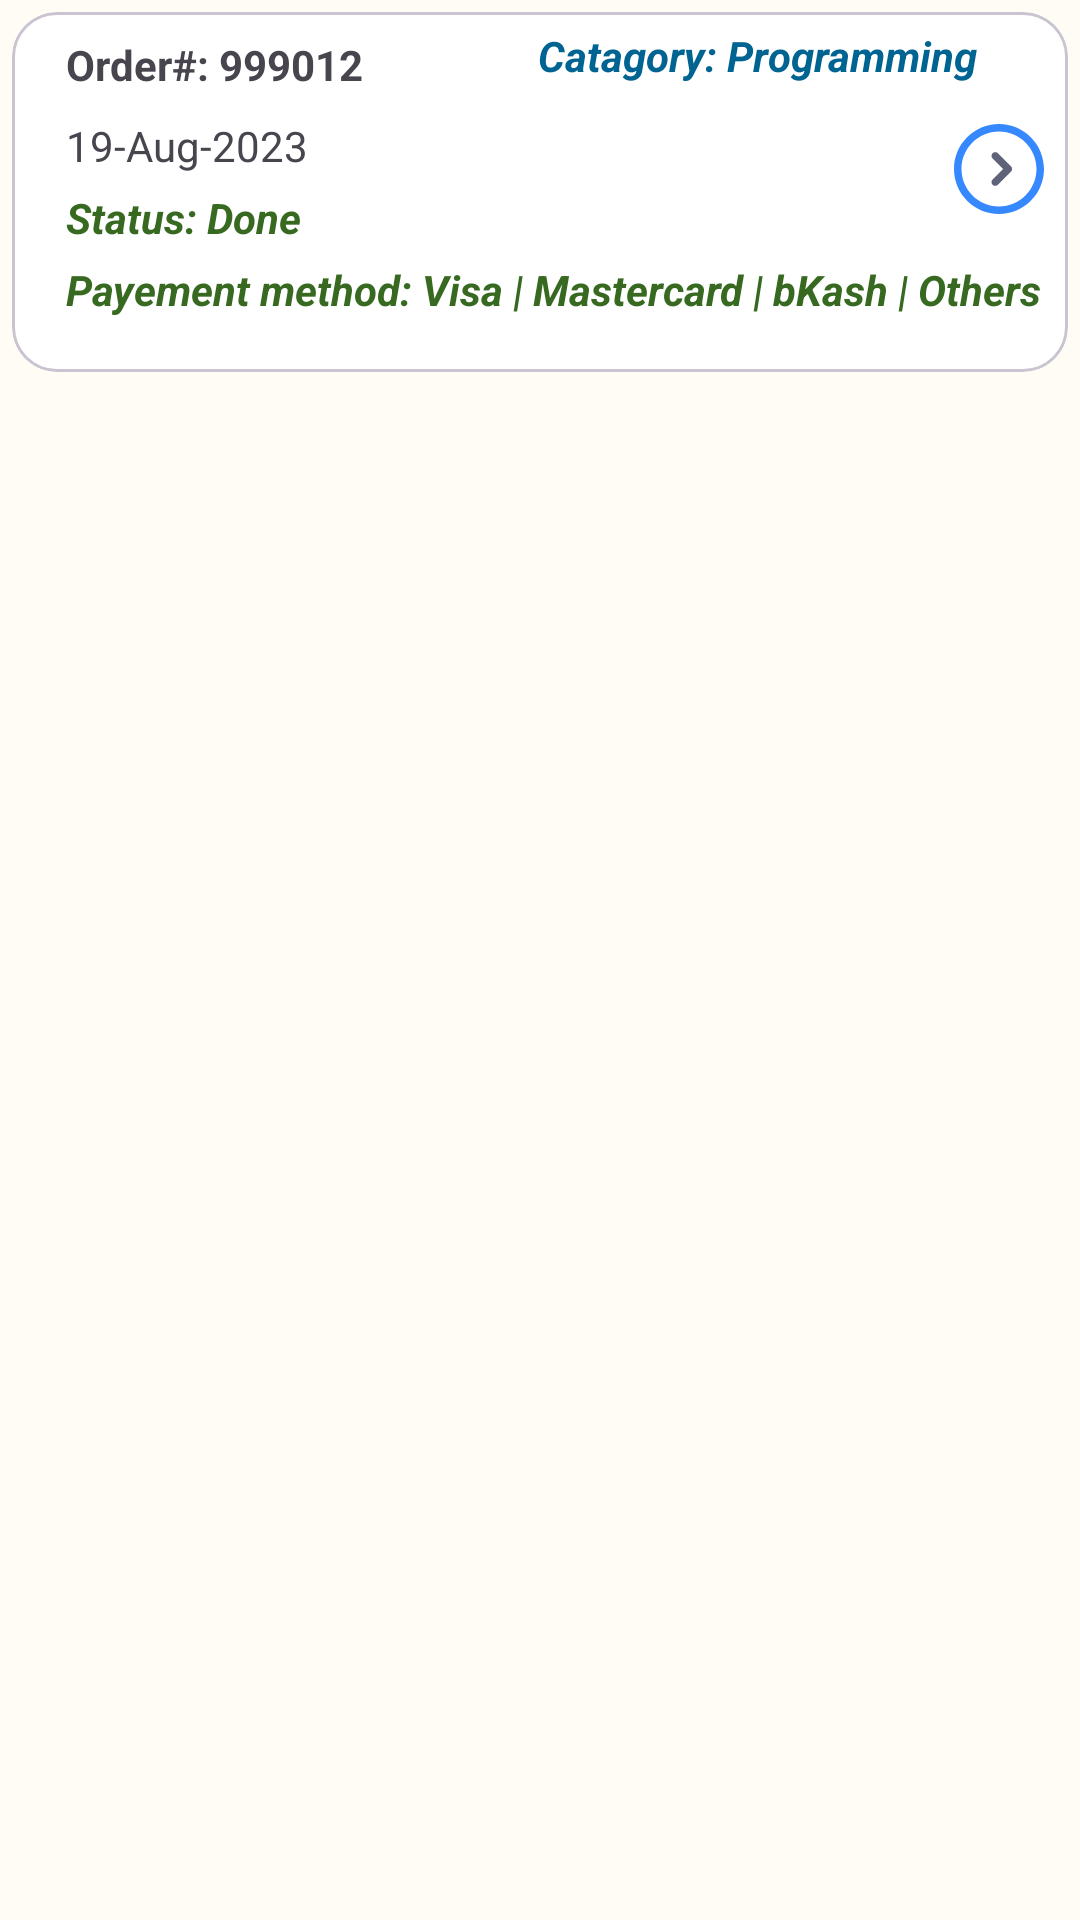

Point at icon controls on the screen. Image size 1080*1920, points as (x,y).
more: (999,169)
